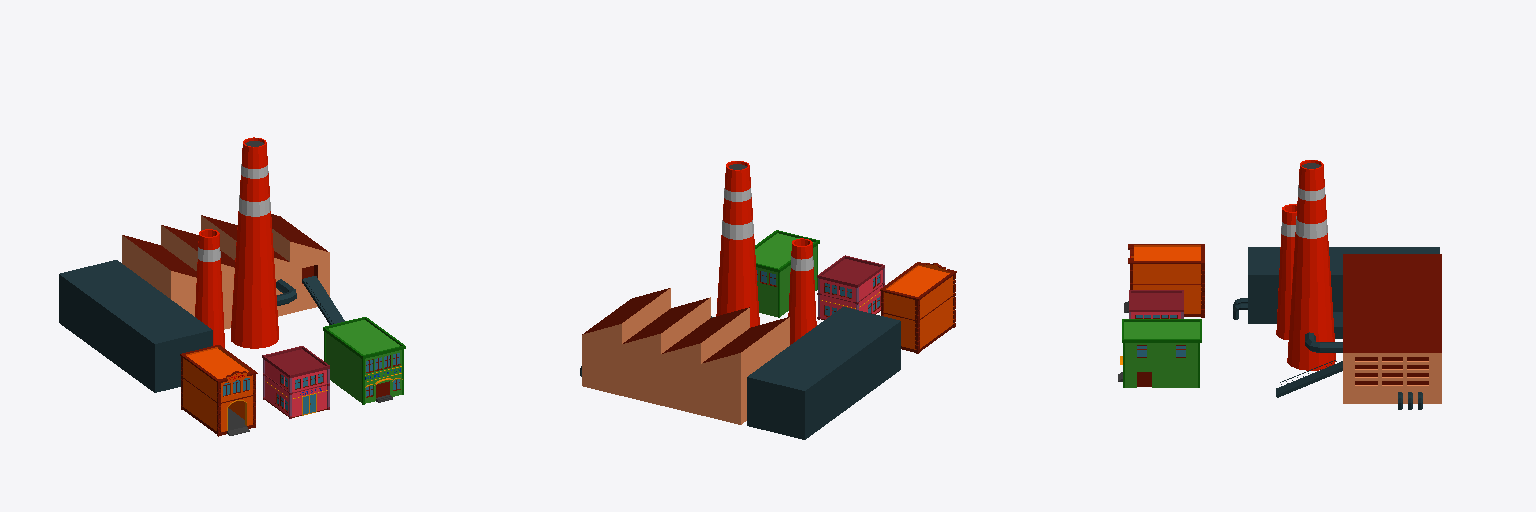
File: town_building.obj
3 views of the same model, side by side, from view 1: azimuth 30°, elevation 25°; view 2: azimuth 150°, elevation 25°; view 3: azimuth 270°, elevation 25° (orthographic).
Visible parts, largest first — view 1: Cube.003_Cube.004, Cube.002_Cube.003, Cube.022_Cube.029, Cube_Cube.001; view 2: Cube.003_Cube.004, Cube.002_Cube.003, Cube_Cube.001, Cube.022_Cube.029; view 3: Cube.003_Cube.004, Cube.022_Cube.029, Cube.002_Cube.003, Cube_Cube.001.
Boxes of the visible parts, box(x1,y1,x2,y2) form: Cube.003_Cube.004: box(59, 137, 344, 392); Cube.002_Cube.003: box(180, 345, 257, 436); Cube.022_Cube.029: box(323, 317, 405, 404); Cube_Cube.001: box(262, 346, 329, 418); Cube.003_Cube.004: box(580, 161, 900, 439); Cube.002_Cube.003: box(880, 262, 956, 353); Cube_Cube.001: box(817, 255, 884, 319); Cube.022_Cube.029: box(755, 230, 819, 317); Cube.003_Cube.004: box(1233, 160, 1441, 409); Cube.022_Cube.029: box(1118, 319, 1201, 387); Cube.002_Cube.003: box(1124, 244, 1204, 317); Cube_Cube.001: box(1129, 290, 1183, 318).
Bounding box in the file's own units: 30.14 × 24.18 × 36.01.